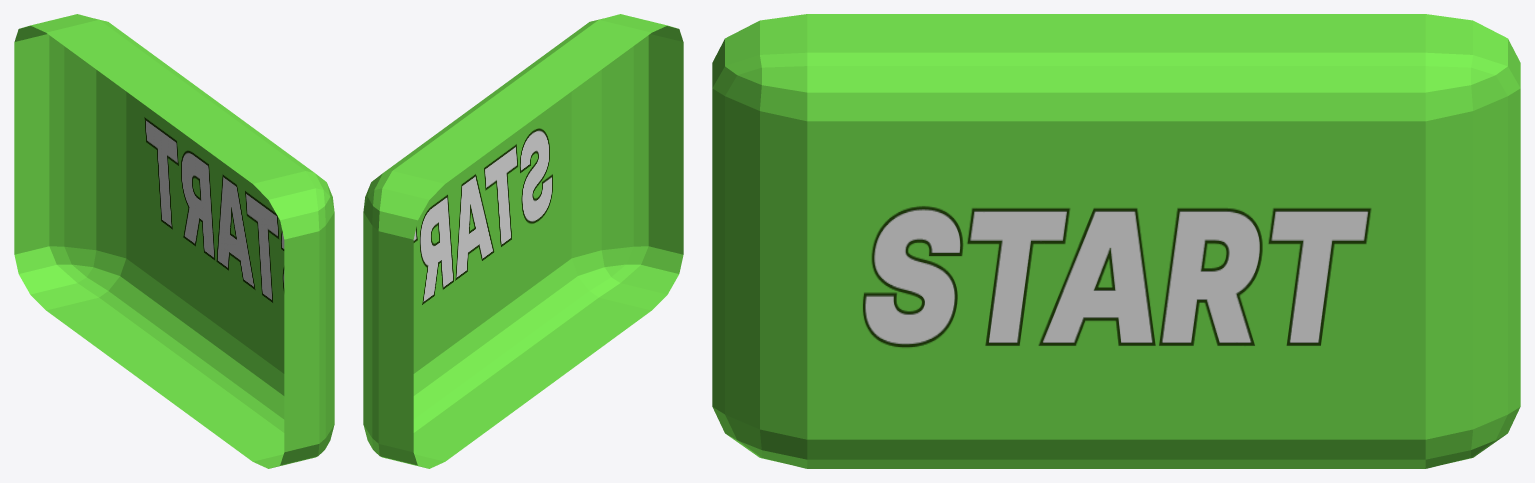
File: start.glb
3 renders of one model, left to right at view 1: azimuth 30°, elevation 25°; view 2: azimuth 150°, elevation 25°; view 3: azimuth 270°, elevation 25°, orthographic. The views are drawn at different scales.
Visible parts, largest first — view 1: button; view 2: button; view 3: button.
Boxes of the visible parts, x1,y1,x2,y2 form: button: (14,14,334,468); button: (363,14,683,468); button: (712,14,1520,468).
Bounding box in the file's own units: 1.05 × 3.49 × 6.15.
1 material, 1 textured.
